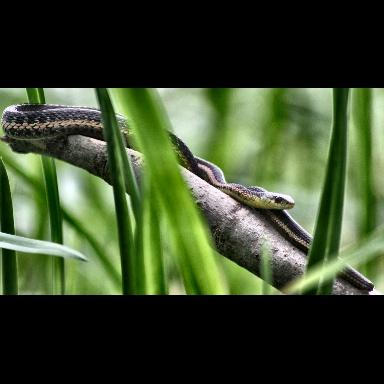snake: (0, 90, 384, 293)
